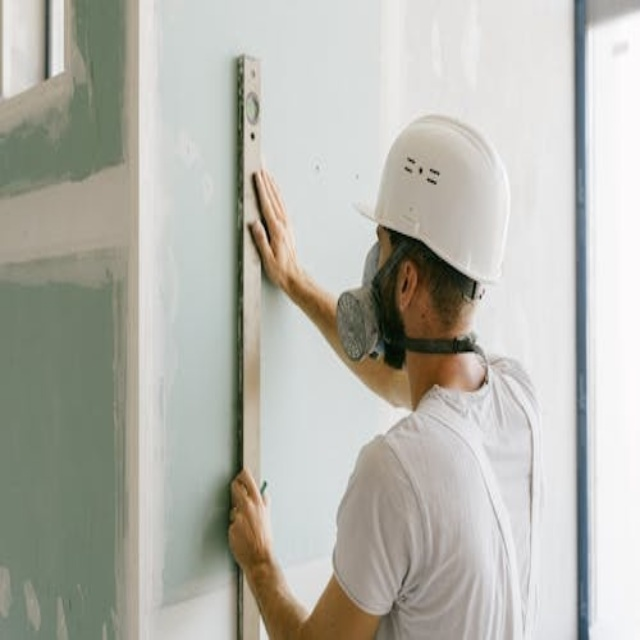Mascara: (336, 244, 392, 364)
Sin_guantes: (244, 160, 296, 286), (224, 465, 270, 565)
